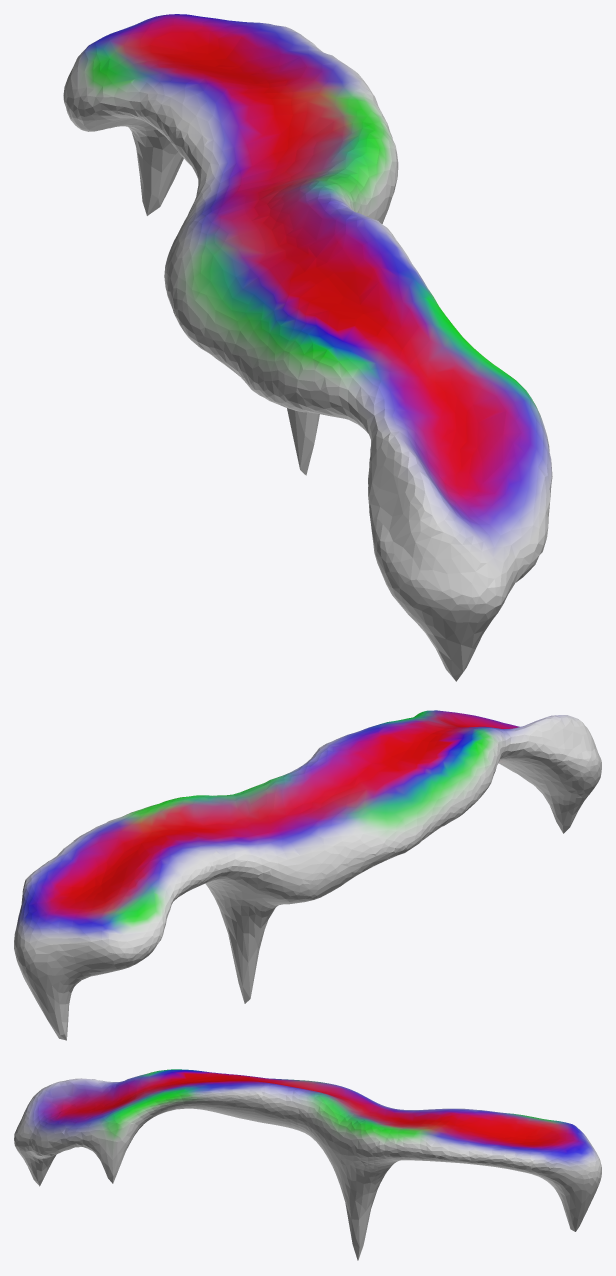
File: Floating Island Bridge.fbx
The picture shows the model from 3 angles, top to bottom: view 1: azimuth 30°, elevation 25°; view 2: azimuth 150°, elevation 25°; view 3: azimuth 270°, elevation 25°; orthographic projection. The views are drawn at different scales.
Visible parts, largest first — view 1: Sphere; view 2: Sphere; view 3: Sphere.
Boxes of the visible parts, box(x1,y1,x2,y2) form: Sphere: box(63, 14, 552, 681); Sphere: box(14, 710, 601, 1040); Sphere: box(14, 1069, 601, 1260).
Size of the model in its own units: 435 by 354 by 1129.
